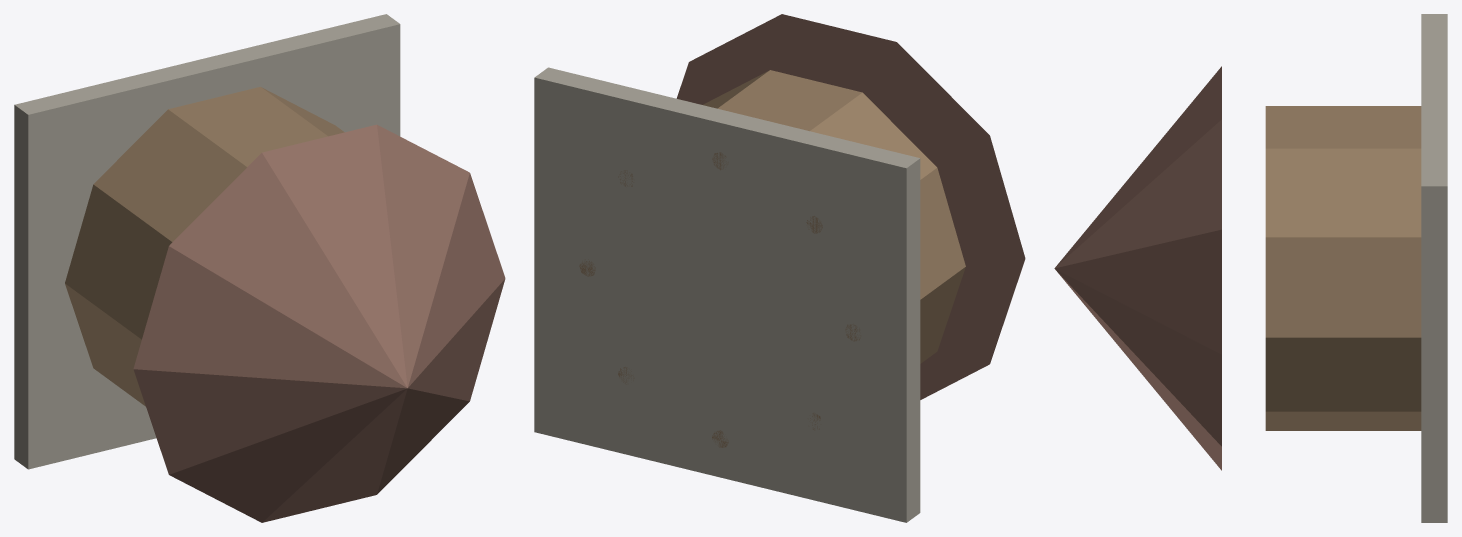
File: AGE_I_residential.glb
3 views of the same model, side by side, from view 1: azimuth 30°, elevation 25°; view 2: azimuth 150°, elevation 25°; view 3: azimuth 270°, elevation 25° (orthographic). The views are drawn at different scales.
Visible parts, largest first — view 1: world; view 2: world; view 3: world.
Boxes of the visible parts, x1,y1,x2,y2 form: world: [14, 14, 505, 522]; world: [534, 14, 1025, 522]; world: [1054, 14, 1447, 522].
Bounding box in the file's own units: 5.6 × 5.33 × 5.4.
